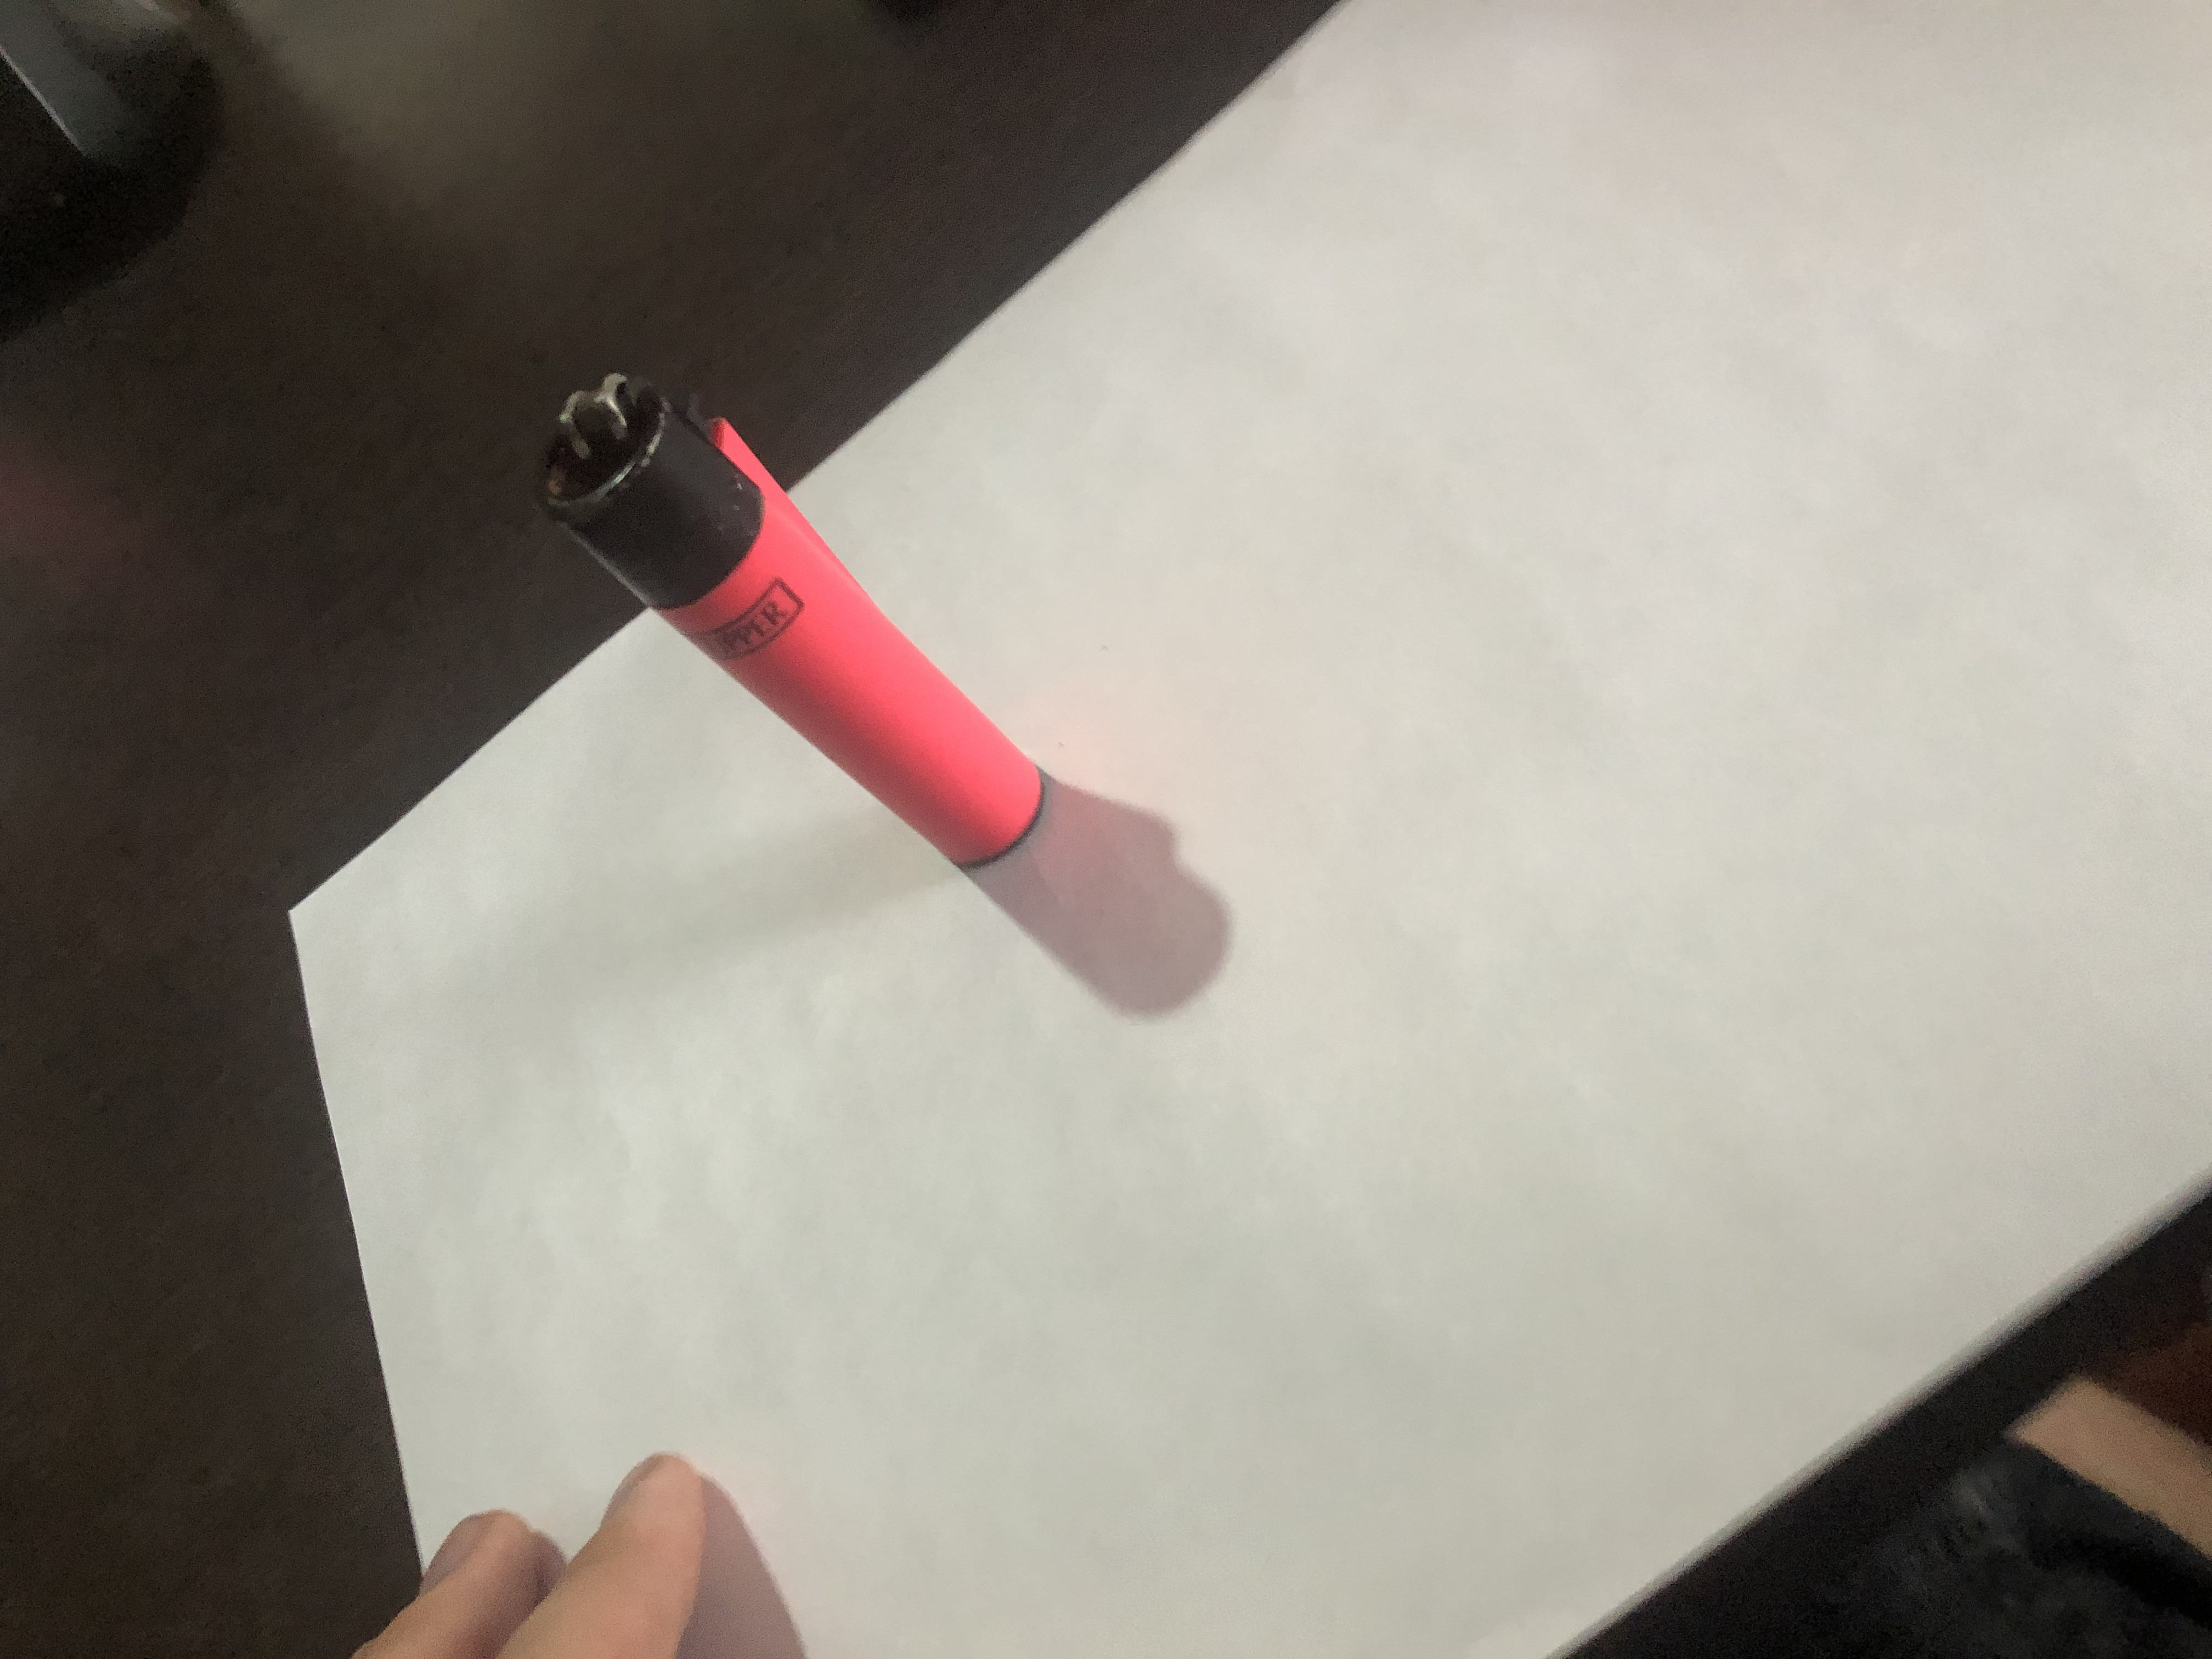Mechero: (524, 373, 1049, 870)
